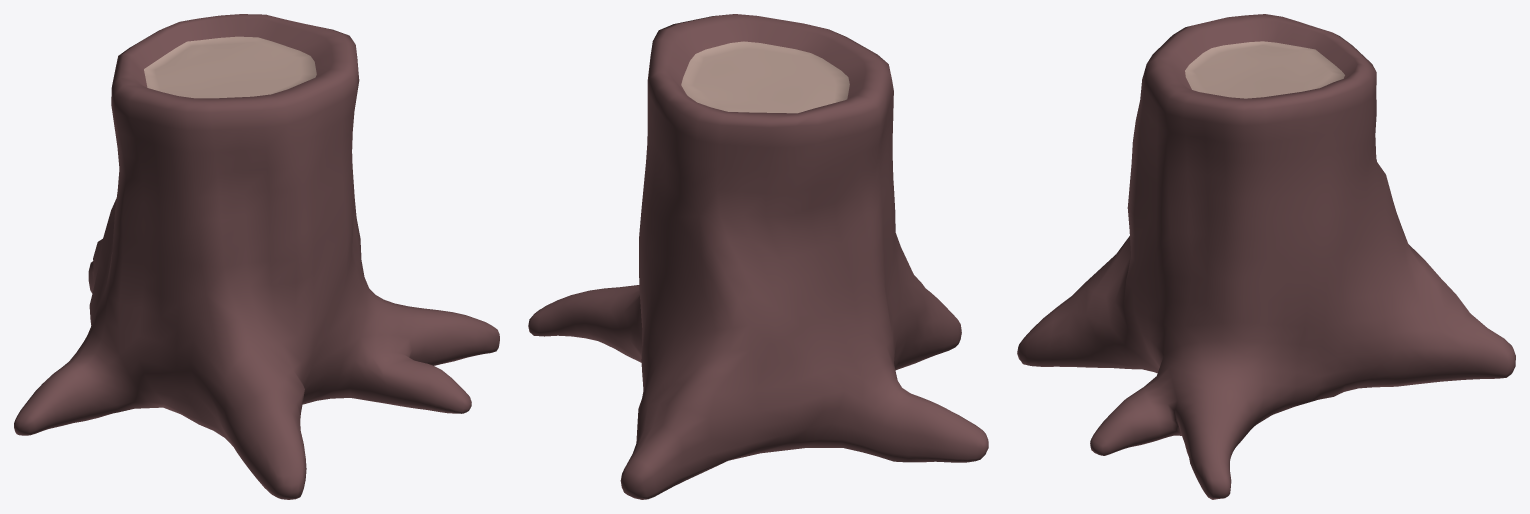
The model's file is cepo.fbx.
3 renders of one model, left to right at view 1: azimuth 30°, elevation 25°; view 2: azimuth 150°, elevation 25°; view 3: azimuth 270°, elevation 25°, orthographic. The views are drawn at different scales.
Visible parts, largest first — view 1: cepo; view 2: cepo; view 3: cepo.
Part boxes in pixels (x1,y1,x2,y2): cepo: (14, 14, 499, 499); cepo: (528, 14, 988, 499); cepo: (1017, 14, 1515, 499).
Bounding box in the file's own units: 32.55 × 23.35 × 31.25.
